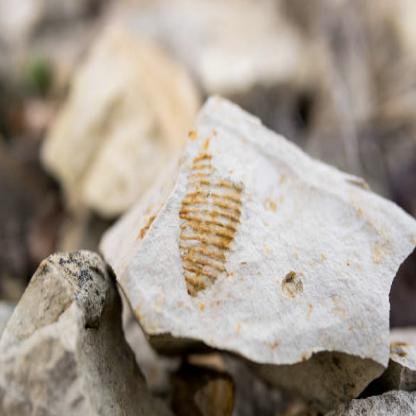Sedimentary_Limestone: (79, 95, 416, 415)
